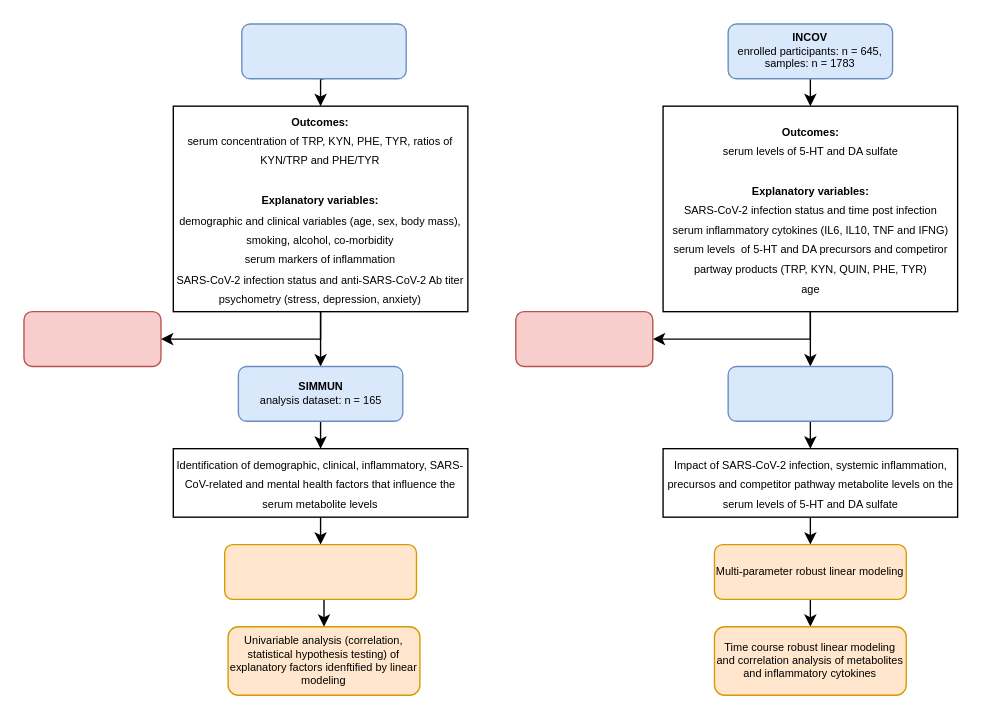
Some shapes in this 982 by 719 pixel diagram are drawn without their labels. The shapes that lost their labels are listed below. From the top down, each one's box as (x1, y1, x2, y2) in pixels, then its label:
(240, 23, 406, 79): SIMMUN enrolled: n = 215
(23, 310, 161, 366): excluded due to study variable missingness n = 50
(514, 310, 653, 366): excluded due to study variable missingness n = 291
(727, 365, 893, 421): INCOV analyzed patients: n = 167 samples: n = 354
(223, 543, 416, 599): Multi-parameter linear modeling (backward elimitation)
